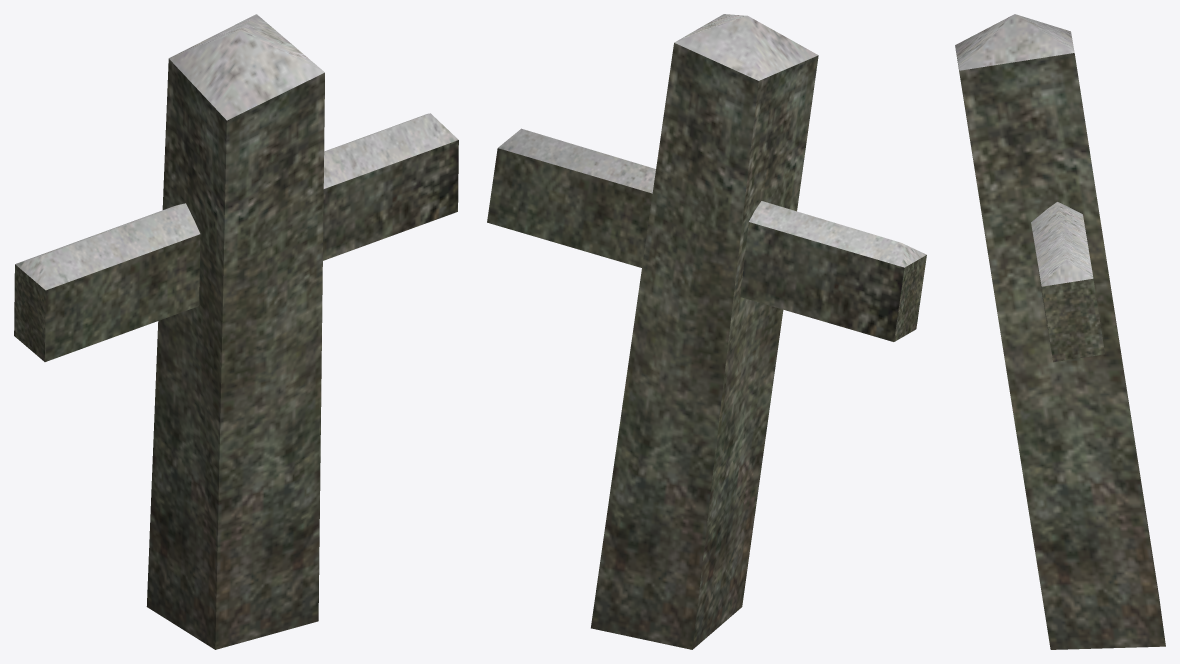
The model's file is tombstone_sm_06_snow.fbx.
3 renders of one model, left to right at view 1: azimuth 30°, elevation 25°; view 2: azimuth 150°, elevation 25°; view 3: azimuth 270°, elevation 25°, orthographic. The views are drawn at different scales.
Parts seen in each view (by area): view 1: mesh_0, mesh_2, mesh_3, mesh_1; view 2: mesh_0, mesh_2, mesh_3, mesh_1; view 3: mesh_0, mesh_1, mesh_2, mesh_3.
Boxes of the visible parts, <box> form: mesh_0: <box>146,59,324,649</box>; mesh_2: <box>14,140,458,361</box>; mesh_3: <box>15,113,458,290</box>; mesh_1: <box>169,14,324,120</box>; mesh_0: <box>591,43,818,649</box>; mesh_2: <box>487,148,926,341</box>; mesh_3: <box>498,128,926,267</box>; mesh_1: <box>674,14,818,80</box>; mesh_0: <box>955,50,1165,649</box>; mesh_1: <box>955,14,1074,70</box>; mesh_2: <box>1032,231,1104,362</box>; mesh_3: <box>1031,202,1093,286</box>.
Size of the model in its own units: 81.22 by 112 by 36.15.
2 materials, 2 textured.
